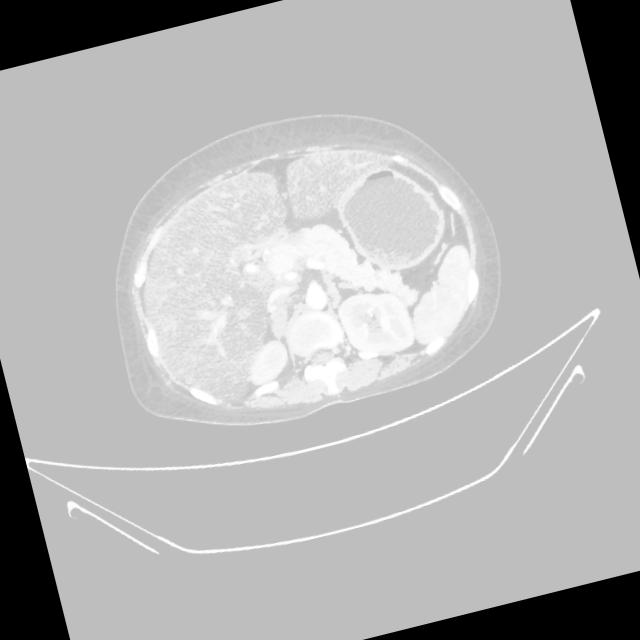NORMAL: (44, 77, 537, 472)
